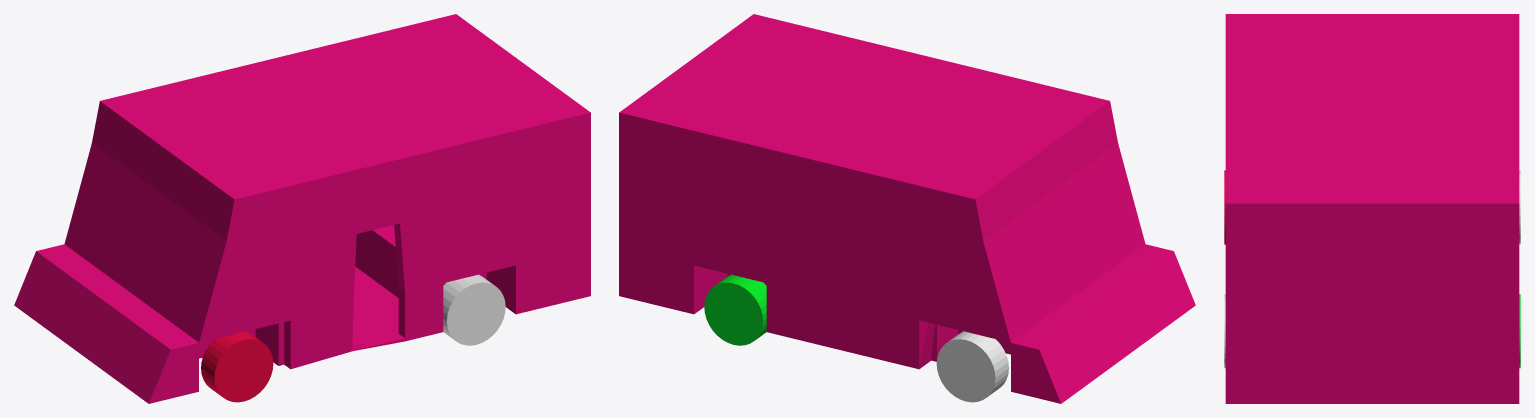
Rendered from food_truck.glb.
3 renders of one model, left to right at view 1: azimuth 30°, elevation 25°; view 2: azimuth 150°, elevation 25°; view 3: azimuth 270°, elevation 25°, orthographic. The views are drawn at different scales.
Parts seen in each view (by area): view 1: Body, FrontRIghtWheel.001, FrontRIghtWheel; view 2: Body, FrontLeftWheel.001, FrontLeftWheel; view 3: Body.
Part boxes in pixels (<box>): Body: <box>14,14,590,403</box>; FrontRIghtWheel.001: <box>201,331,273,402</box>; FrontRIghtWheel: <box>443,274,505,345</box>; Body: <box>619,14,1195,403</box>; FrontLeftWheel.001: <box>936,331,1008,402</box>; FrontLeftWheel: <box>704,274,766,345</box>; Body: <box>1225,14,1519,403</box>.
Bounding box in the file's own units: 7.52 × 3.31 × 4.
